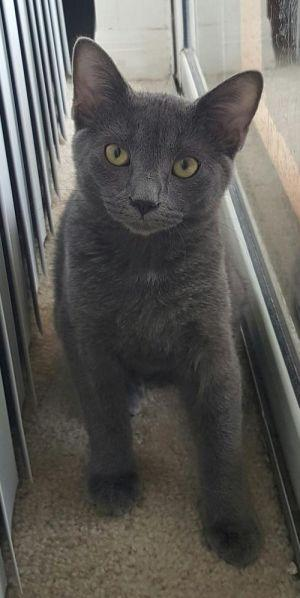rblue: (39, 16, 288, 270)
